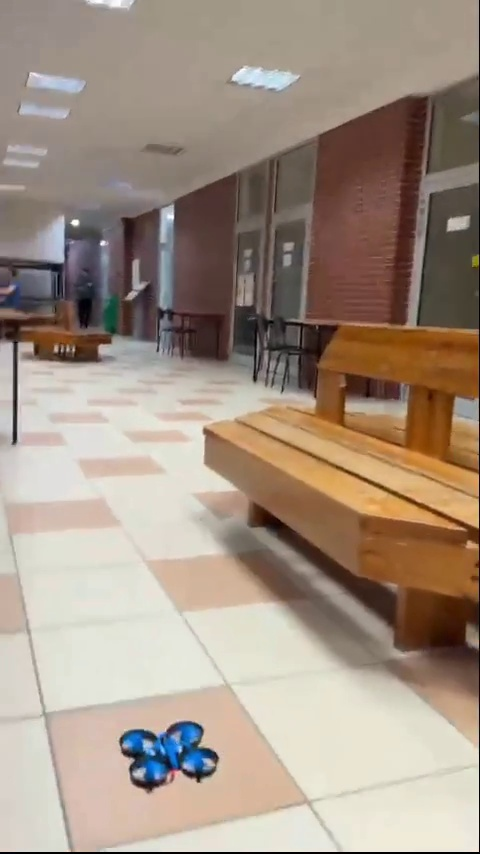drone: (123, 722, 213, 788)
no vest: (74, 264, 99, 327)
